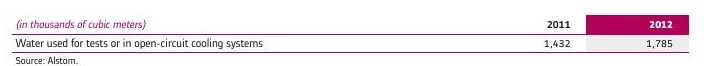table: (0, 0, 708, 66)
